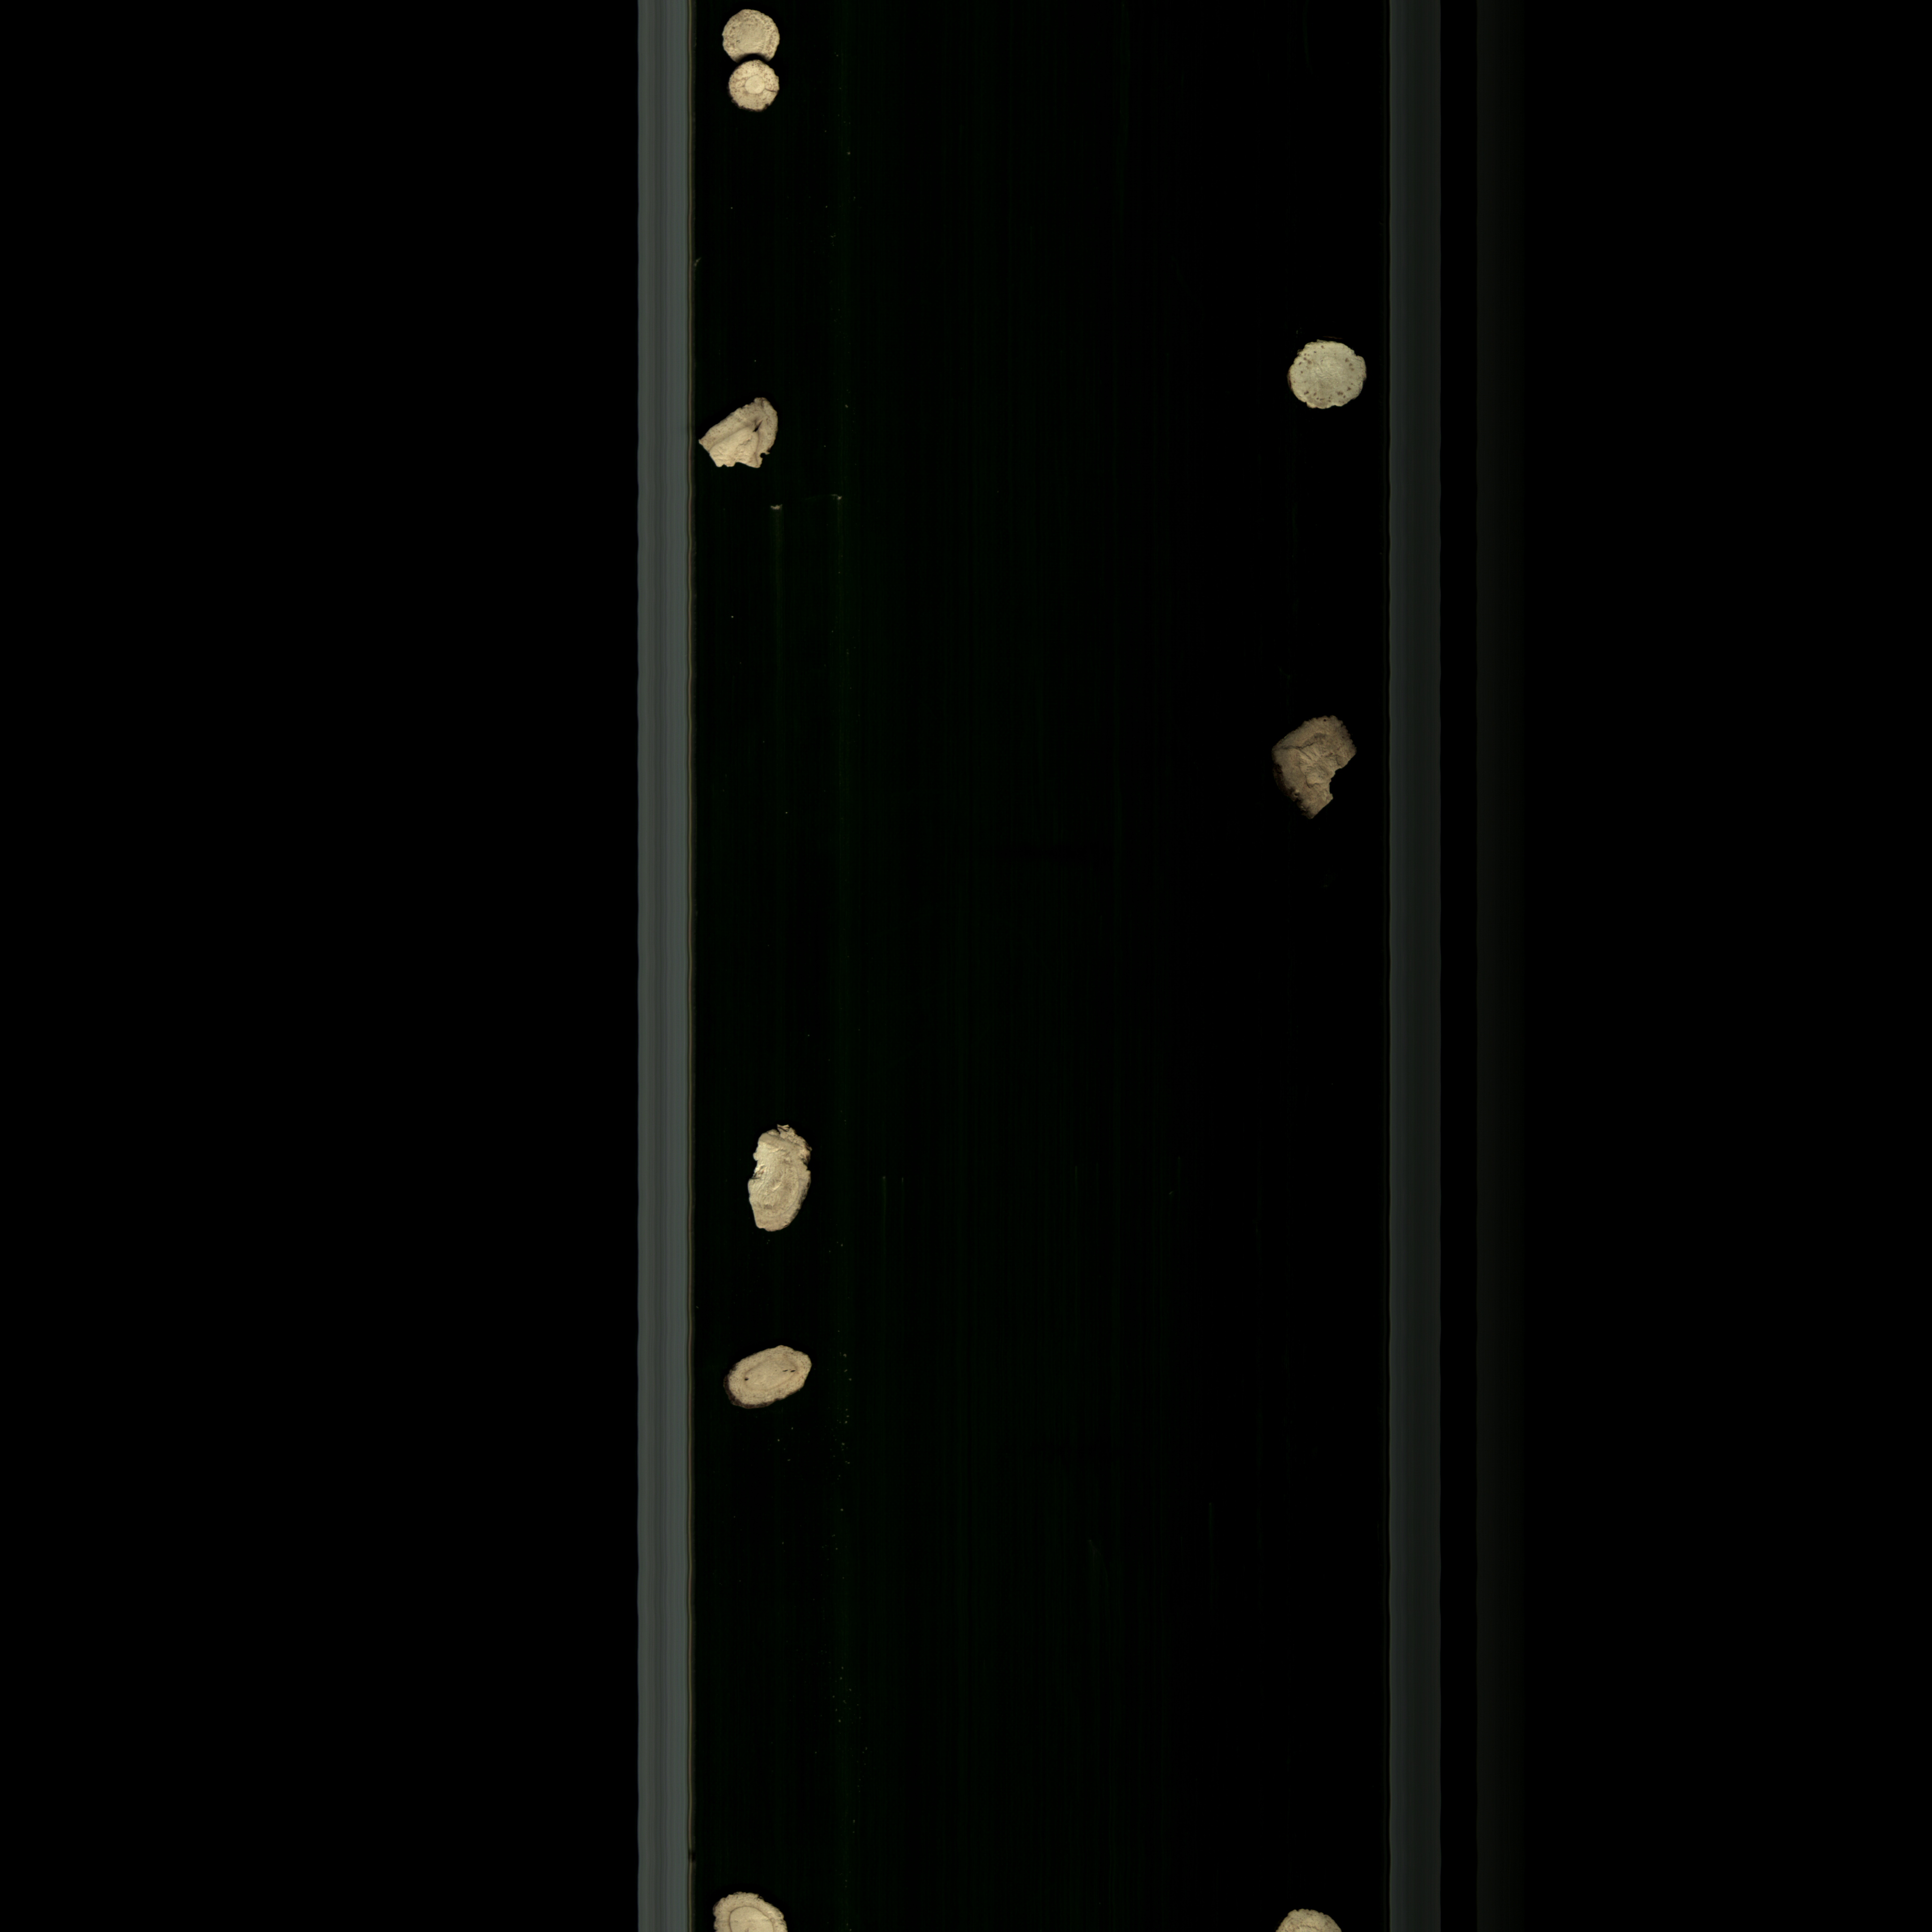debris: (729, 1113, 826, 1246), (692, 393, 789, 483)
distortion: (711, 1338, 830, 1430)
moldy: (1254, 706, 1362, 837), (1269, 333, 1376, 425), (722, 48, 787, 117)
